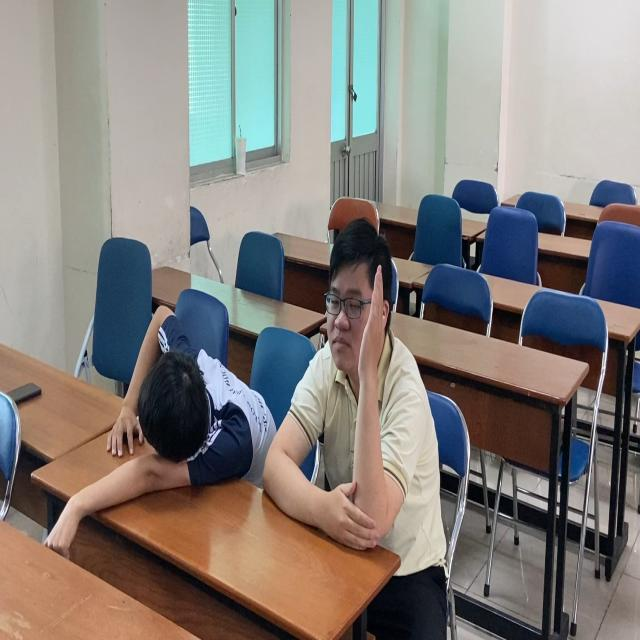raise_hand: (286, 216, 442, 545)
